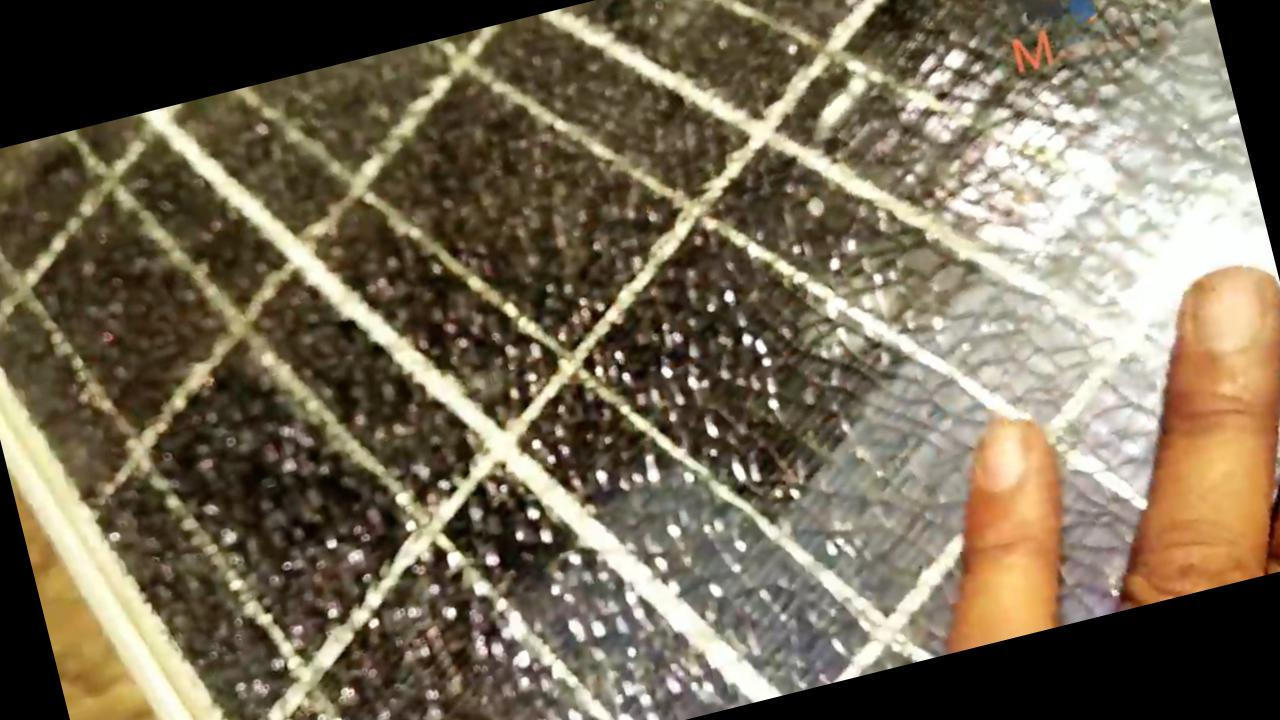Crack: (35, 0, 912, 719)
